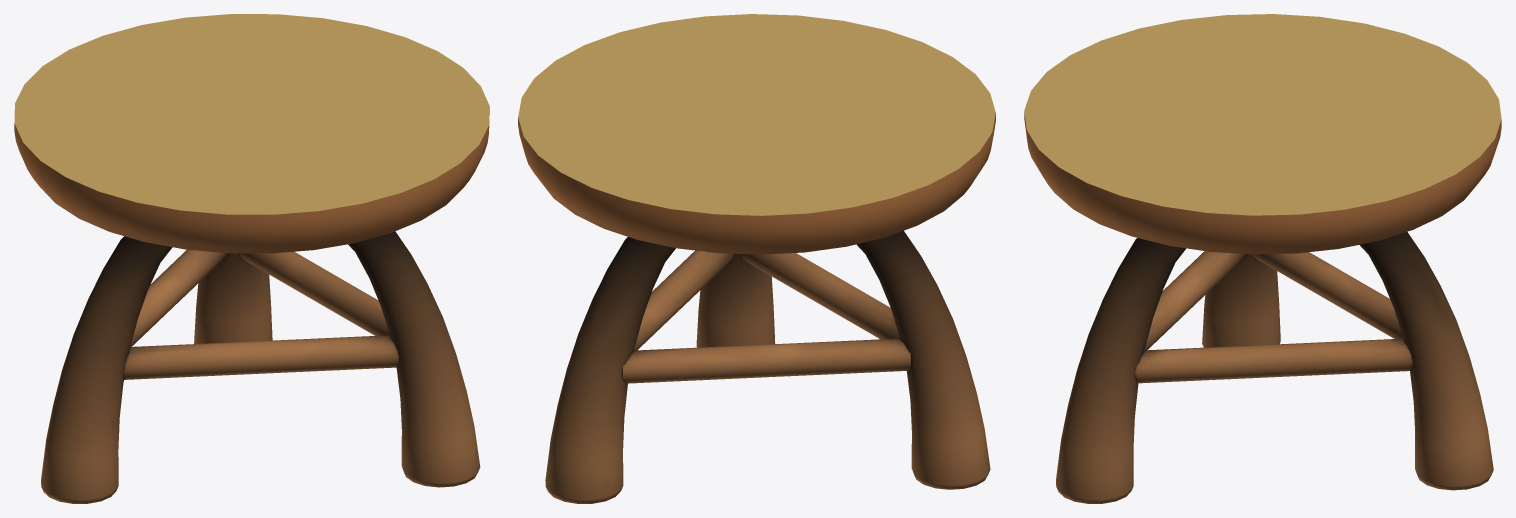
File: small_table.glb
3 views of the same model, side by side, from view 1: azimuth 30°, elevation 25°; view 2: azimuth 150°, elevation 25°; view 3: azimuth 270°, elevation 25° (orthographic).
Parts seen in each view (by area): view 1: fc_small_table.smd; view 2: fc_small_table.smd; view 3: fc_small_table.smd.
Part boxes in pixels (box(x1,y1,x2,y2)): fc_small_table.smd: box(14, 14, 489, 503); fc_small_table.smd: box(518, 14, 995, 503); fc_small_table.smd: box(1024, 14, 1501, 503).
Size of the model in its own units: 0.8007 by 0.5859 by 0.7806.
1 material, 1 textured.
